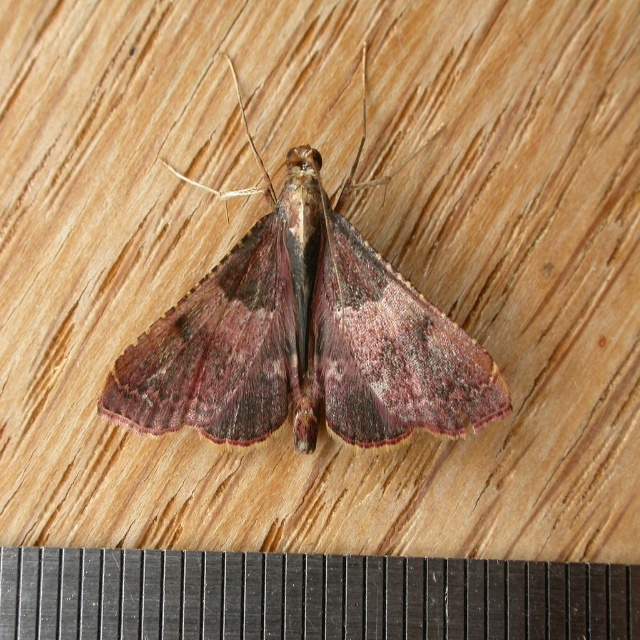Butterfly: (96, 37, 516, 458)
